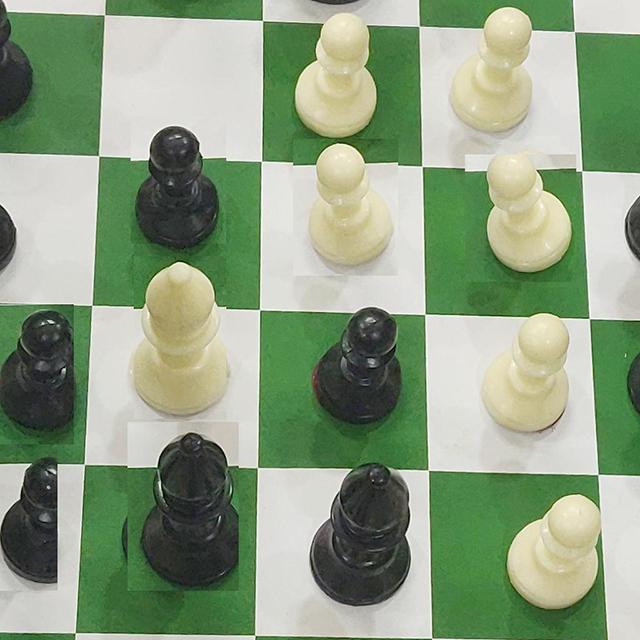black-bishop: (309, 460, 412, 623), (139, 422, 238, 591)
black-pawn: (130, 116, 227, 244), (318, 298, 414, 426), (0, 304, 74, 444), (0, 450, 58, 590)
white-bishop: (134, 252, 228, 414)
white-pawn: (442, 2, 548, 139), (293, 138, 398, 276), (465, 154, 576, 282), (472, 308, 580, 438), (496, 488, 608, 612), (293, 2, 392, 142)
